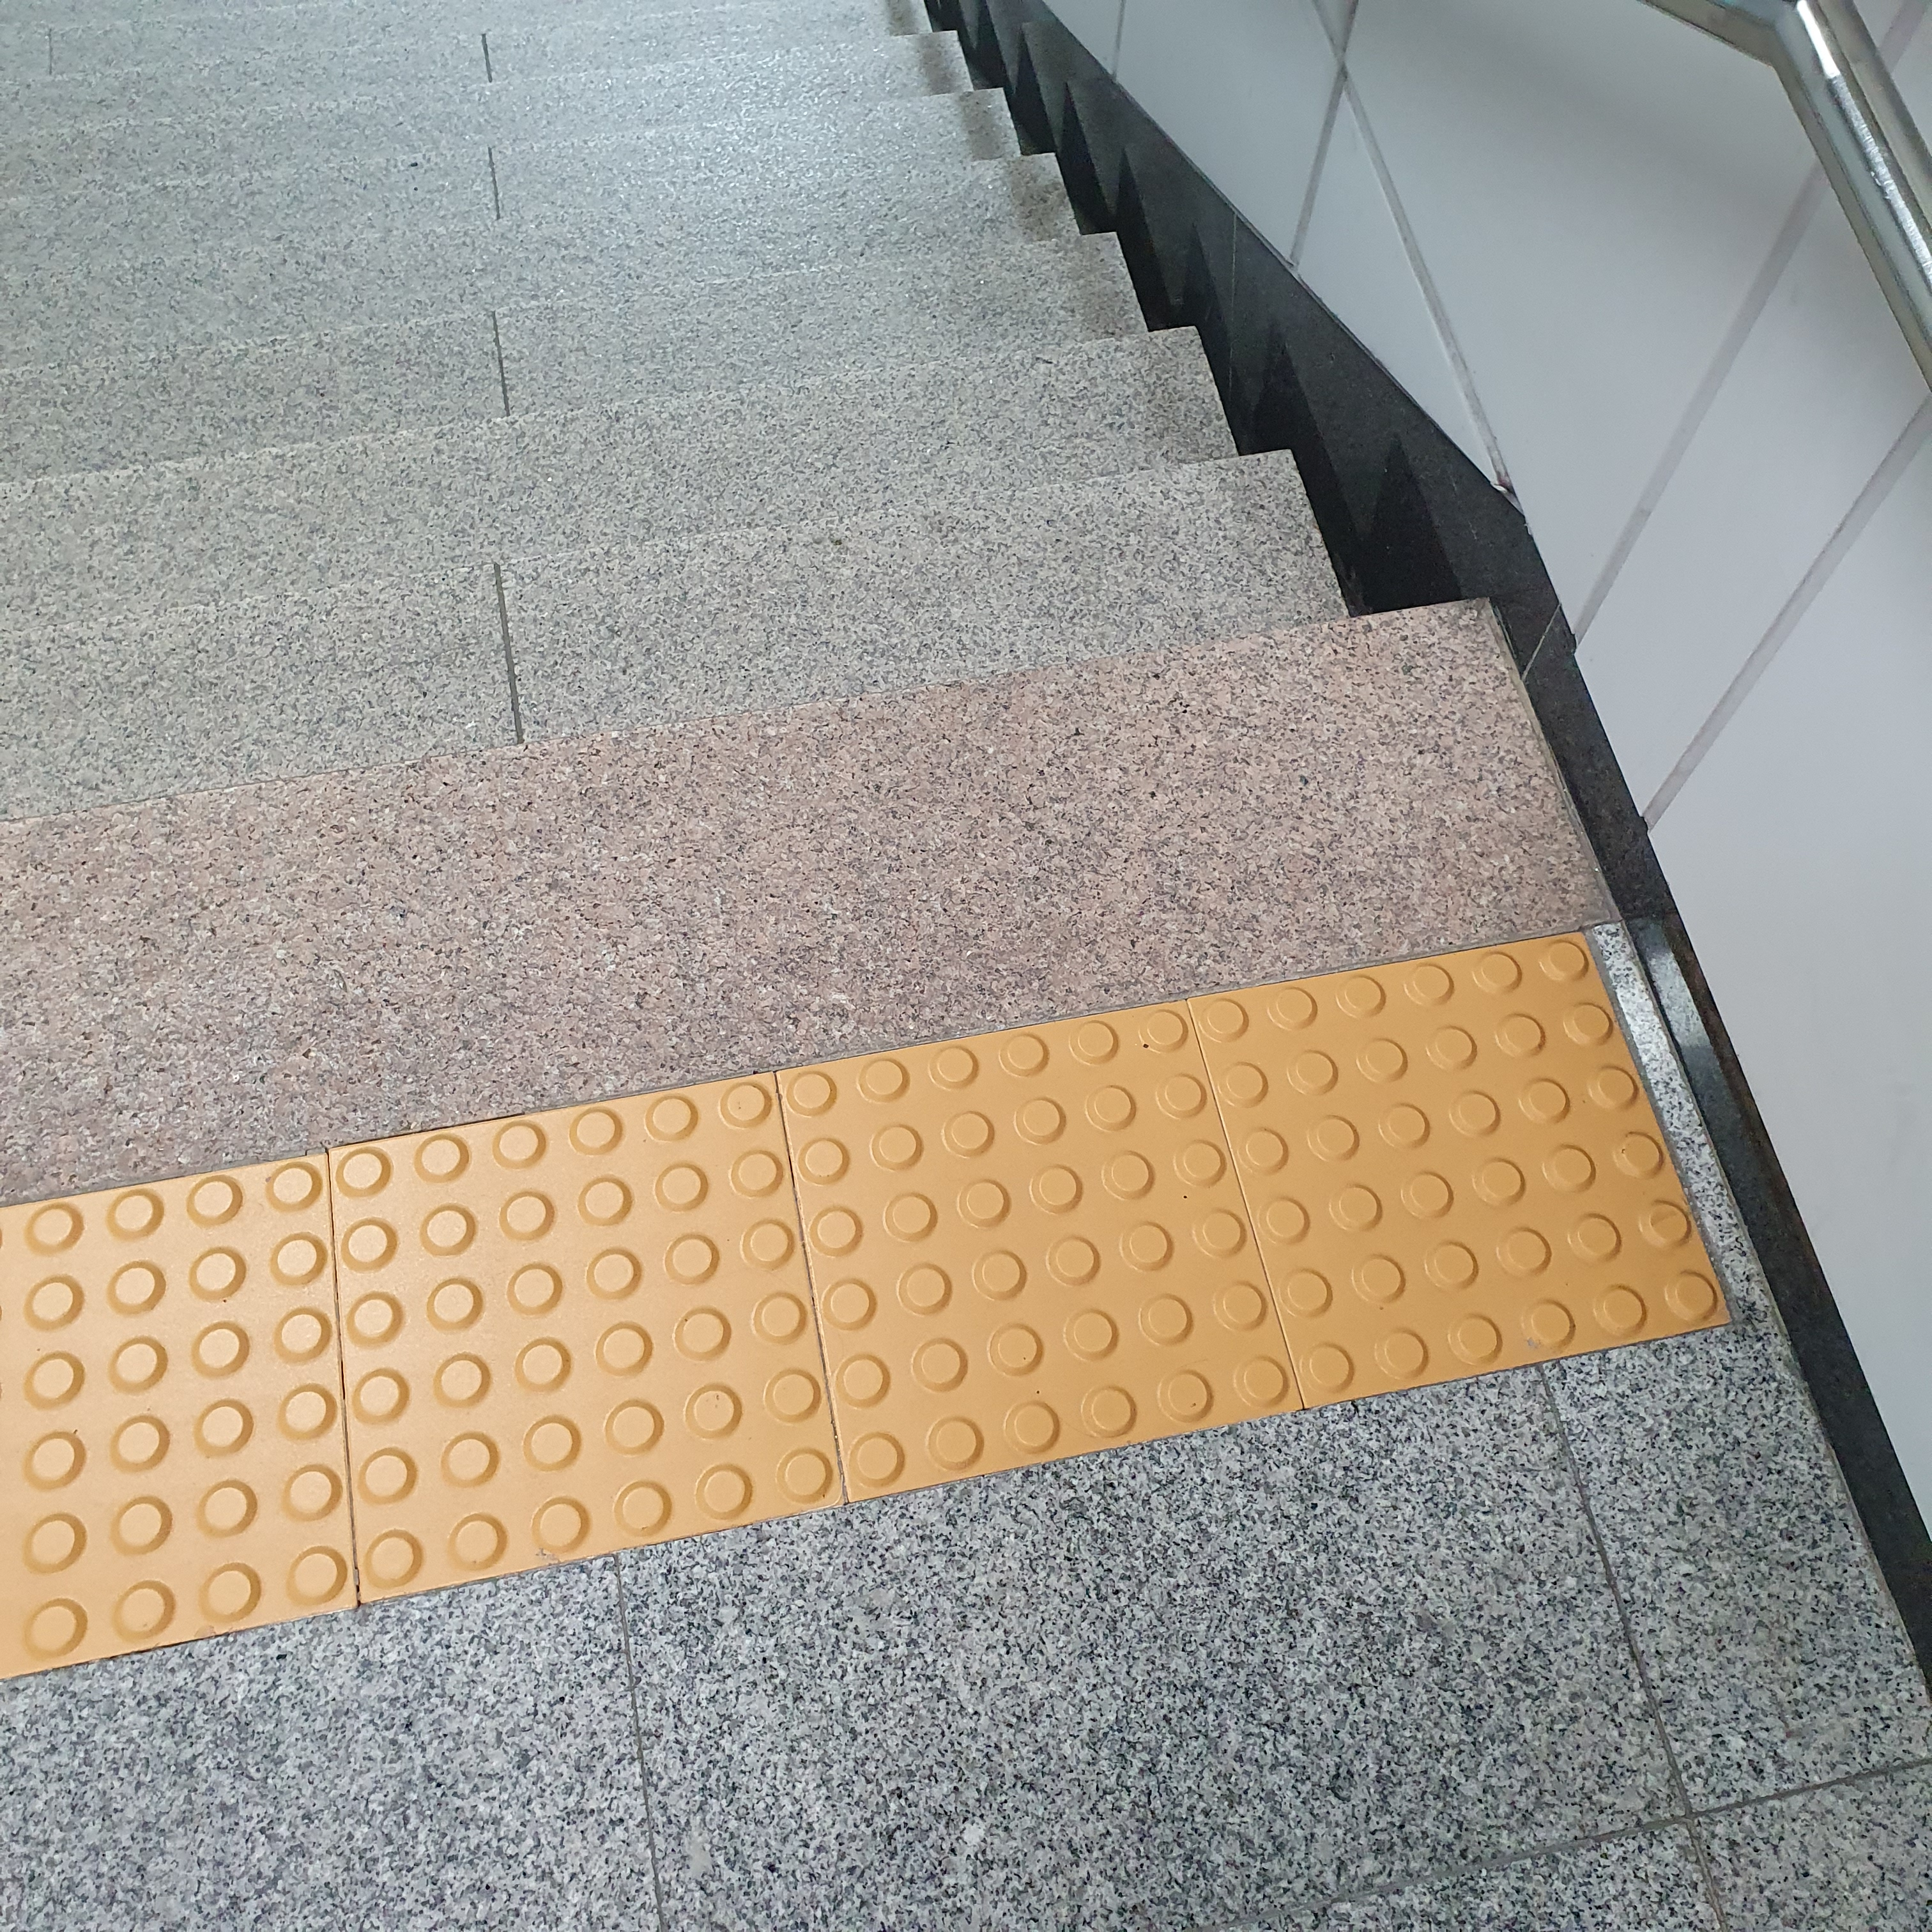warningBlock: (359, 1136, 833, 1532), (0, 1214, 373, 1661), (810, 1056, 1263, 1421), (1242, 982, 1668, 1361)
